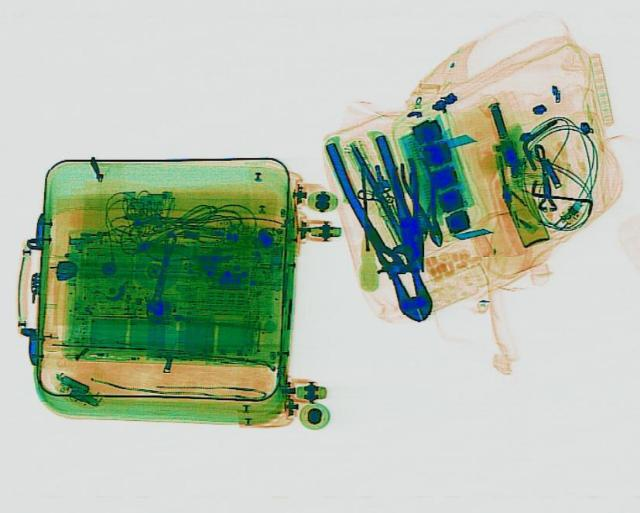Pliers: (322, 131, 452, 326), (370, 156, 440, 273), (396, 156, 456, 247)
